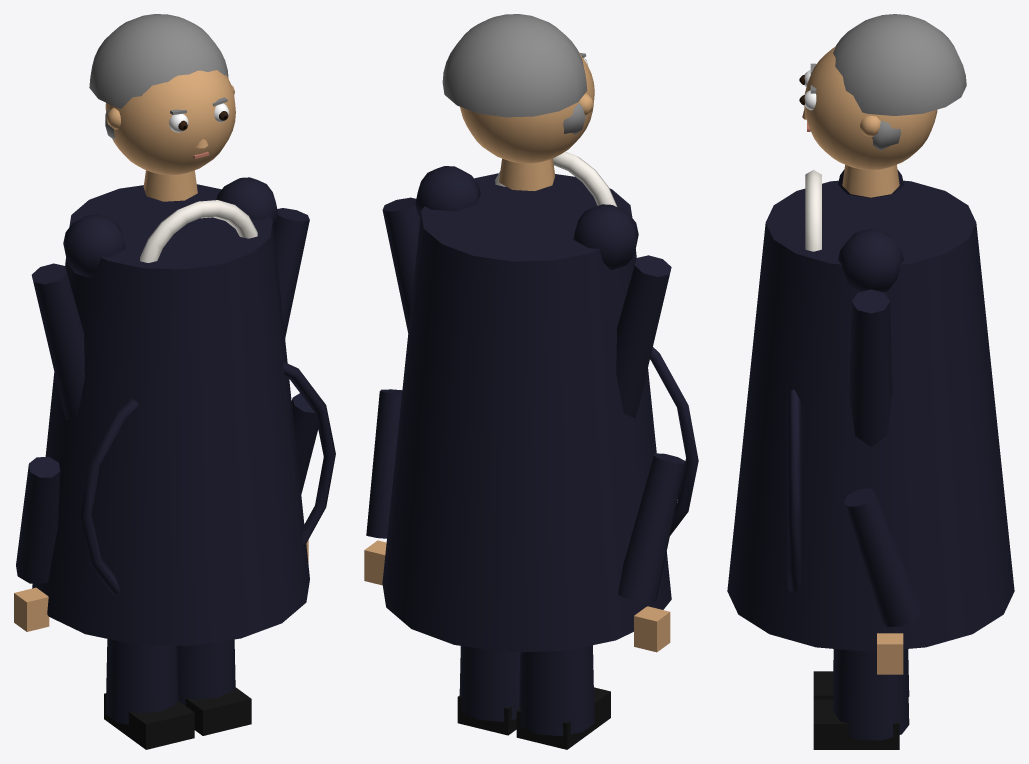
Rendered from presidente.glb.
The picture shows the model from 3 angles, left to right: view 1: azimuth 30°, elevation 25°; view 2: azimuth 150°, elevation 25°; view 3: azimuth 270°, elevation 25°; orthographic projection. The views are drawn at different scales.
Visible parts, largest first — view 1: PRESIDENTE; view 2: PRESIDENTE; view 3: PRESIDENTE.
Part boxes in pixels (<box>): PRESIDENTE: <box>14,14,335,749</box>; PRESIDENTE: <box>364,14,698,749</box>; PRESIDENTE: <box>727,14,1014,749</box>.
Size of the model in its own units: 0.7196 by 1.62 by 0.6.
